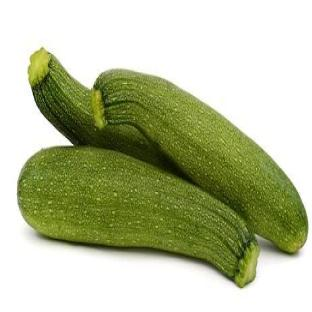Zucchini: (92, 70, 307, 253), (18, 147, 258, 286), (29, 48, 174, 170)
